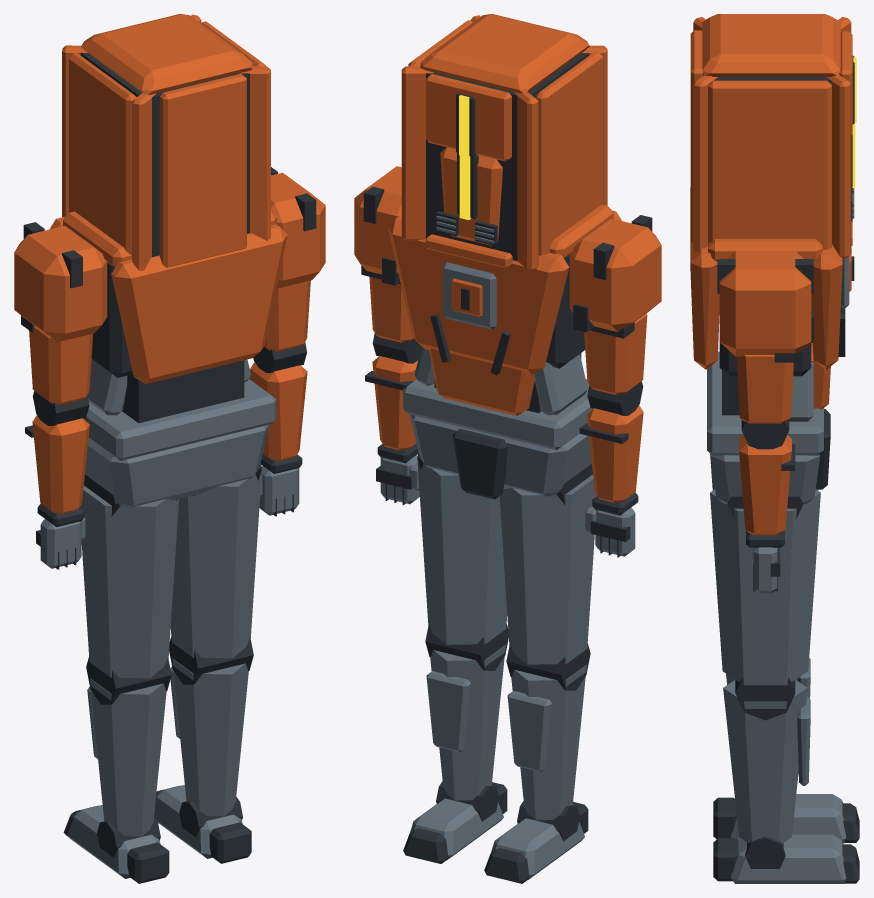
File: Robot_Orange.fbx
The picture shows the model from 3 angles, left to right: view 1: azimuth 30°, elevation 25°; view 2: azimuth 150°, elevation 25°; view 3: azimuth 270°, elevation 25°; orthographic projection. The views are drawn at different scales.
Parts seen in each view (by area): view 1: Head, Chest, Thigh.L, Hips, Thigh.R, Shin.L, Shin.R, Forearm.L, Forearm.R, Foot.L, Foot.R, UpperArm.L (+3 smaller); view 2: Head, Chest, Thigh.L, Hips, Thigh.R, Shin.R, Shin.L, Forearm.L, Foot.R, Foot.L, Forearm.R, UpperArm.L (+3 smaller); view 3: Head, Chest, Thigh.R, Shin.R, Foot.R, Hips, Forearm.R, UpperArm.R, Foot.L, Hand.R.
Boxes of the visible parts, box(x1,y1,x2,y2) form: Head: box(62, 14, 270, 270); Chest: box(14, 167, 325, 423); Thigh.L: box(79, 474, 178, 678); Hips: box(83, 379, 276, 507); Thigh.R: box(170, 462, 261, 658); Shin.L: box(86, 657, 171, 836); Shin.R: box(169, 637, 253, 816); Forearm.L: box(25, 391, 89, 526); Forearm.R: box(249, 342, 307, 473); Foot.L: box(63, 805, 169, 883); Foot.R: box(154, 785, 251, 863); UpperArm.L: box(21, 315, 92, 404); Head: box(401, 14, 607, 270); Chest: box(354, 166, 661, 415); Thigh.L: box(499, 464, 596, 664); Hips: box(403, 379, 592, 499); Thigh.R: box(417, 452, 507, 644); Shin.R: box(425, 624, 508, 800); Shin.L: box(506, 643, 590, 820); Forearm.L: box(579, 381, 643, 515); Foot.R: box(403, 781, 507, 863); Foot.L: box(484, 801, 588, 883); Forearm.R: box(365, 333, 421, 463); UpperArm.L: box(584, 313, 647, 395); Head: box(690, 14, 856, 258); Chest: box(690, 187, 854, 421); Thigh.R: box(710, 489, 820, 685); Shin.R: box(723, 677, 810, 843); Foot.R: box(713, 834, 859, 883); Hips: box(707, 351, 830, 504); Forearm.R: box(739, 420, 795, 547); UpperArm.R: box(736, 352, 797, 423); Foot.L: box(713, 794, 859, 843); Hand.R: box(753, 547, 780, 593).
Size of the model in its own units: 0.8292 by 0.4256 by 2.27.
